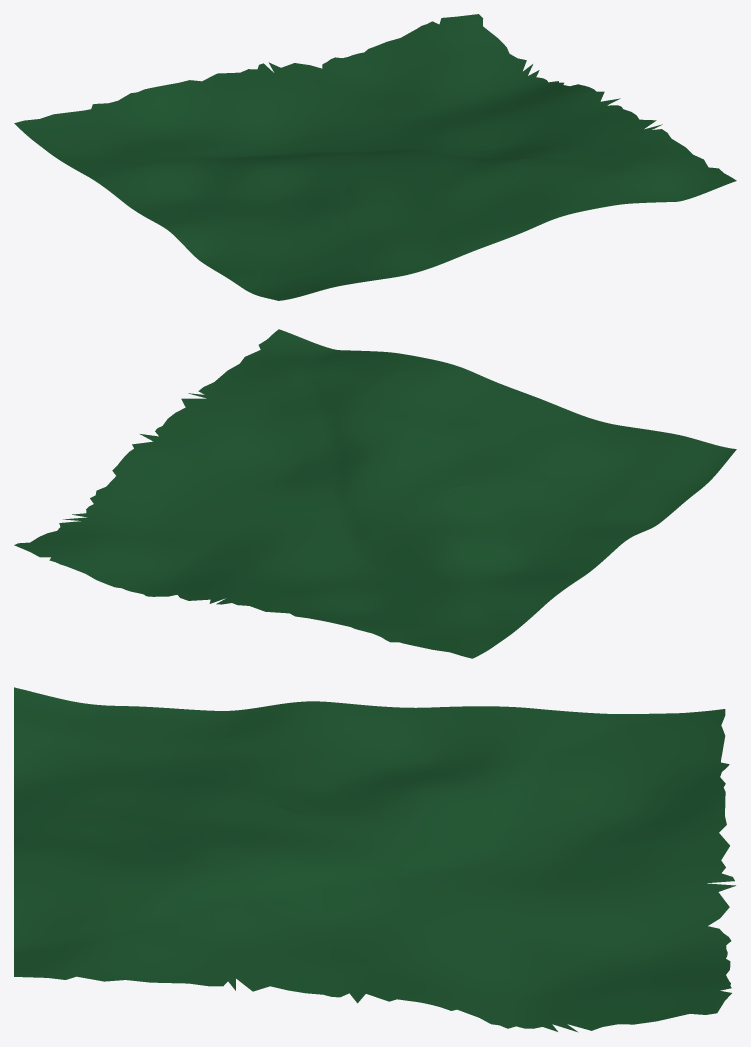
File: payo_land_xm3_ym3.glb
The picture shows the model from 3 angles, top to bottom: view 1: azimuth 30°, elevation 25°; view 2: azimuth 150°, elevation 25°; view 3: azimuth 270°, elevation 25°; orthographic projection. The views are drawn at different scales.
Visible parts, largest first — view 1: payo_land_xm3_ym3; view 2: payo_land_xm3_ym3; view 3: payo_land_xm3_ym3.
Boxes of the visible parts, x1,y1,x2,y2 form: payo_land_xm3_ym3: [14, 14, 736, 300]; payo_land_xm3_ym3: [14, 329, 736, 658]; payo_land_xm3_ym3: [14, 687, 735, 1032].
Bounding box in the file's own units: 262 × 28.35 × 259.
